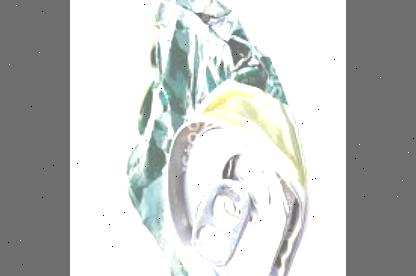Can: (121, 0, 310, 276)
